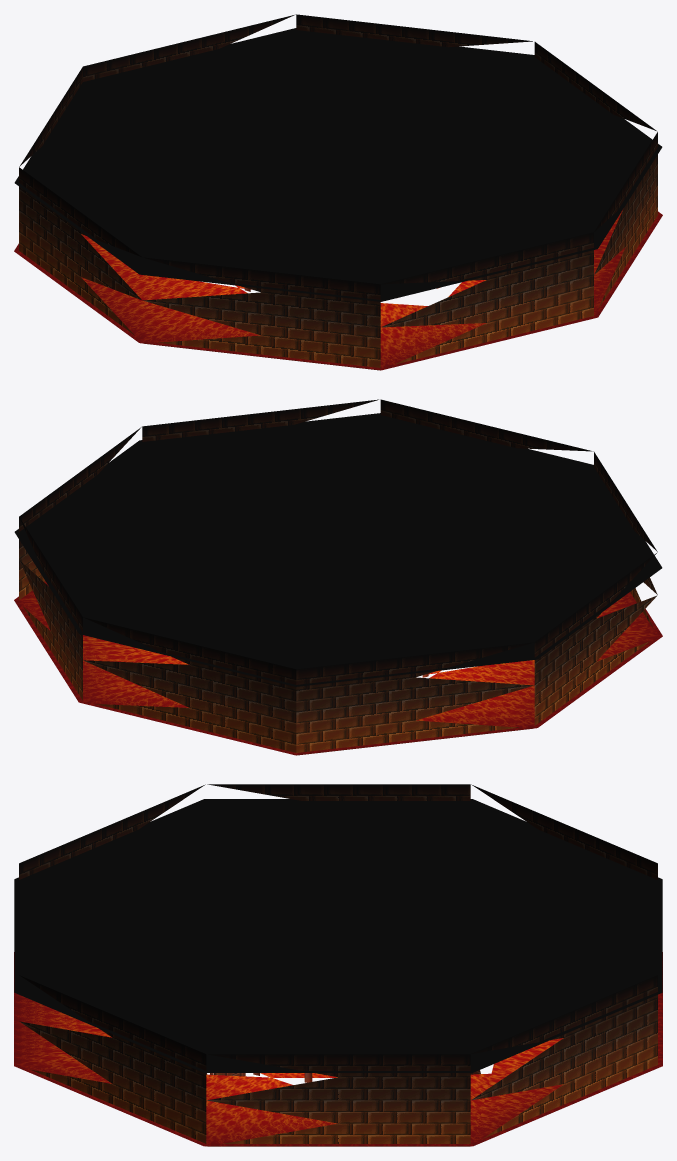
Rendered from MR_stage3-MR_stage3.glb.
The picture shows the model from 3 angles, top to bottom: view 1: azimuth 30°, elevation 25°; view 2: azimuth 150°, elevation 25°; view 3: azimuth 270°, elevation 25°; orthographic projection. The views are drawn at different scales.
Visible parts, largest first — view 1: MR_stage3; view 2: MR_stage3; view 3: MR_stage3.
Boxes of the visible parts, x1=… form: MR_stage3: x1=14, y1=14, x2=662, y2=370; MR_stage3: x1=14, y1=399, x2=662, y2=755; MR_stage3: x1=14, y1=784, x2=662, y2=1146.
Bounding box in the file's own units: 584 × 121 × 584.
Materials: 12 (12 with a texture image).
